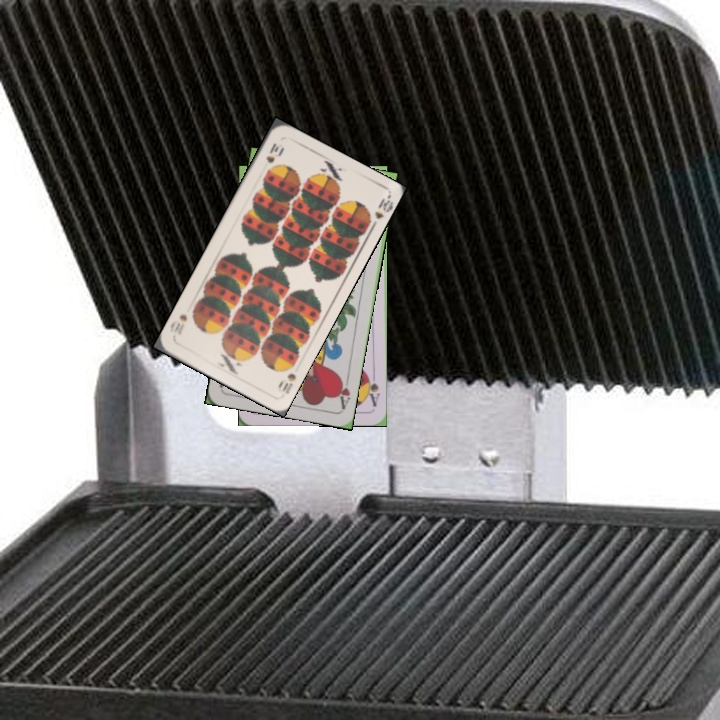HA: (333, 371, 353, 412)
S10: (274, 359, 299, 396), (262, 139, 285, 166)
SA: (362, 369, 382, 409)
